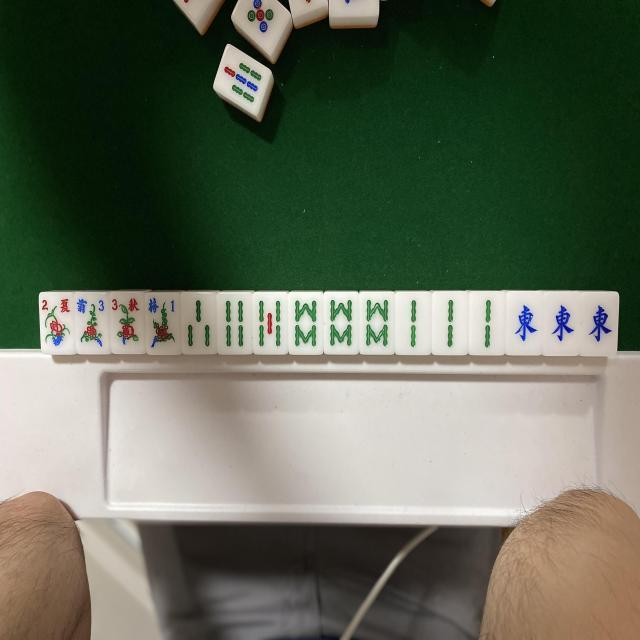bf1: (145, 295, 178, 352)
bf3: (78, 295, 109, 352)
bs2: (42, 292, 76, 350)
bs3: (111, 300, 143, 350)
hwe: (508, 296, 542, 349), (583, 298, 615, 351), (548, 298, 578, 351)
sb2: (472, 291, 504, 352), (434, 292, 466, 352), (400, 292, 430, 352)
sb3: (181, 296, 216, 352)
sb4: (218, 296, 252, 354)
sb5: (256, 298, 289, 356)
sb8: (361, 292, 394, 350), (288, 294, 320, 351), (327, 292, 358, 350)
